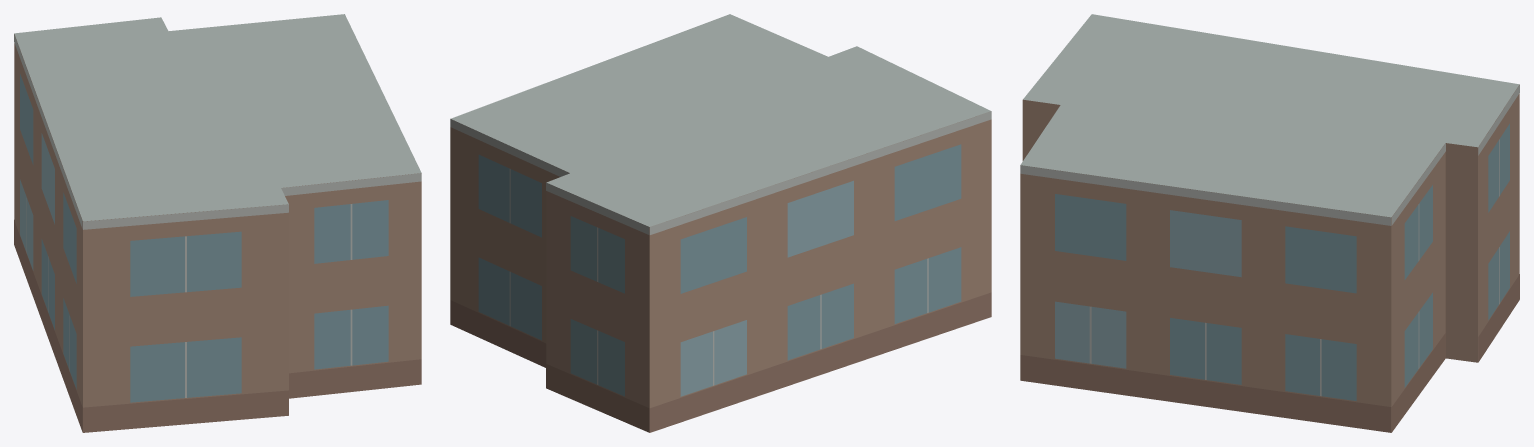
The model's file is survey-upis-32543350.glb.
3 views of the same model, side by side, from view 1: azimuth 30°, elevation 25°; view 2: azimuth 150°, elevation 25°; view 3: azimuth 270°, elevation 25° (orthographic). The views are drawn at different scales.
Visible parts, largest first — view 1: survey-upis-32543350.tmp; view 2: survey-upis-32543350.tmp; view 3: survey-upis-32543350.tmp.
Boxes of the visible parts, x1=… form: survey-upis-32543350.tmp: x1=14, y1=14, x2=421, y2=432; survey-upis-32543350.tmp: x1=450, y1=14, x2=991, y2=432; survey-upis-32543350.tmp: x1=1020, y1=14, x2=1519, y2=432.
Size of the model in its own units: 12.36 by 6.1 by 12.82.
